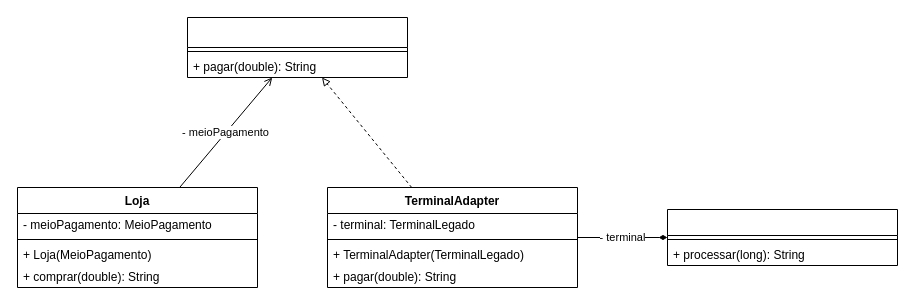
Image size: 915x305. Some labels were removed from this diagram. The shapes that lost their labels are listed below. From the top down, each one's box as (x1, y1, x2, y2) in pixels, then its label:
(186, 16, 408, 78): <<interface>> MeioPagamento
(666, 208, 898, 266): TerminalLegado
